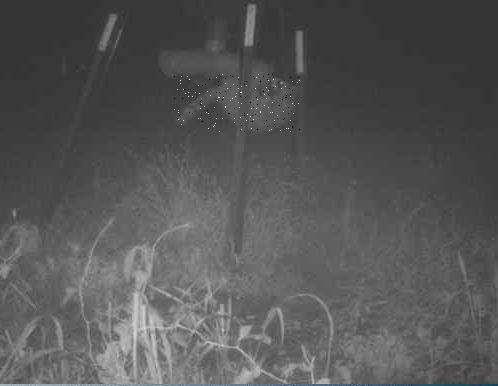Raccoon: (173, 74, 300, 132)
